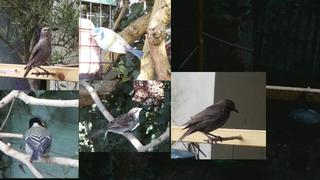blue tit: (89, 27, 144, 59)
great tit: (24, 117, 52, 164)
sparrow: (90, 107, 143, 138)
starling: (178, 99, 239, 145), (23, 27, 52, 78)
